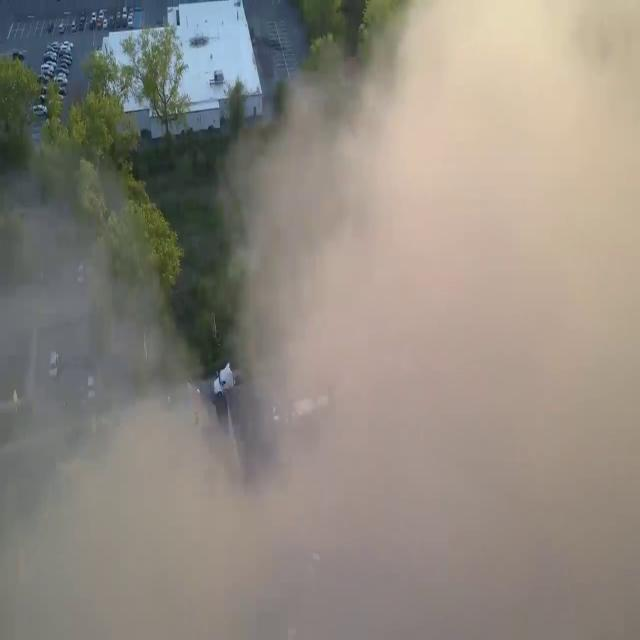Smoke: (277, 1, 638, 556), (0, 186, 269, 634)
